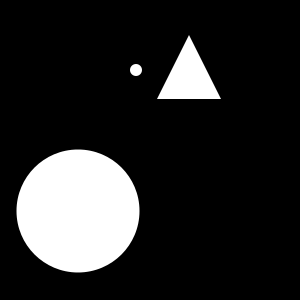rectangle: (17, 150, 140, 272), (130, 64, 142, 76)
triangle: (157, 35, 221, 99)
